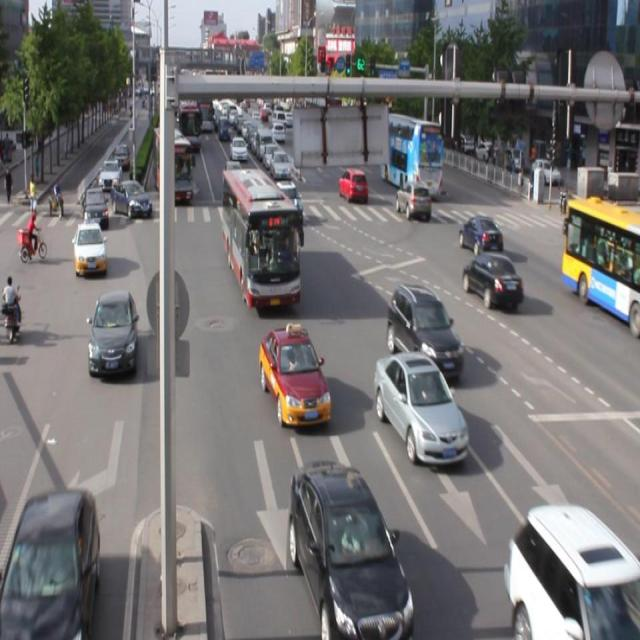car: (288, 458, 412, 640), (504, 502, 640, 640), (0, 489, 100, 640), (374, 351, 468, 464), (386, 284, 463, 384), (258, 324, 331, 427), (88, 292, 138, 378), (460, 253, 523, 309), (458, 214, 503, 257)
van: (559, 199, 640, 330), (222, 170, 300, 306)
